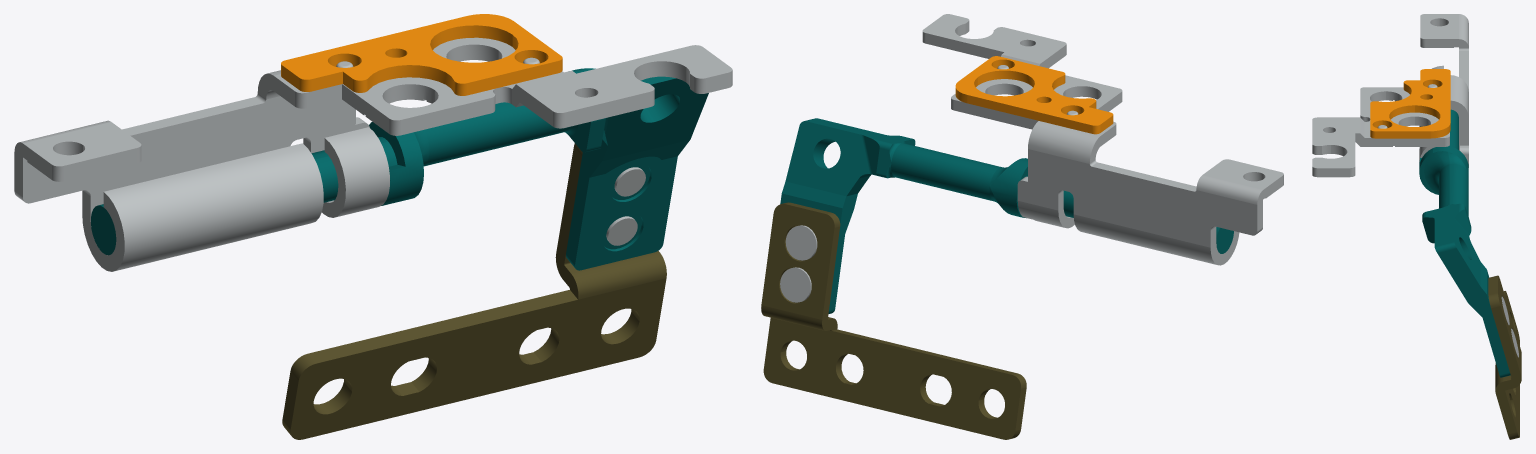
Rendered from framework-hinge-right.glb.
The picture shows the model from 3 angles, left to right: view 1: azimuth 30°, elevation 25°; view 2: azimuth 150°, elevation 25°; view 3: azimuth 270°, elevation 25°; orthographic projection. The views are drawn at different scales.
Parts seen in each view (by area): view 1: STEP part 1, GFW30_HINGE_R_BASE_BRK, GFW30_HINGE_R_AXIS_0703, GFW30_LCD_HINGE_SUP_BRK_R2, GFW30_BASE_HINGE_RIVET_R (×2); view 2: STEP part 1, GFW30_HINGE_R_BASE_BRK, GFW30_HINGE_R_AXIS_0703, GFW30_LCD_HINGE_SUP_BRK_R2, GFW30_BASE_HINGE_RIVET_R (×2); view 3: STEP part 1, GFW30_HINGE_R_AXIS_0703, GFW30_LCD_HINGE_SUP_BRK_R2, GFW30_HINGE_R_BASE_BRK.
Boxes of the visible parts, box(x1,y1,x2,y2) form: STEP part 1: box(14, 37, 732, 271); GFW30_HINGE_R_BASE_BRK: box(282, 143, 666, 439); GFW30_HINGE_R_AXIS_0703: box(91, 68, 708, 270); GFW30_LCD_HINGE_SUP_BRK_R2: box(281, 14, 562, 95); GFW30_BASE_HINGE_RIVET_R (×2): box(606, 167, 645, 245); STEP part 1: box(922, 14, 1283, 265); GFW30_HINGE_R_BASE_BRK: box(761, 202, 1026, 439); GFW30_HINGE_R_AXIS_0703: box(780, 118, 1233, 313); GFW30_LCD_HINGE_SUP_BRK_R2: box(955, 56, 1113, 134); GFW30_BASE_HINGE_RIVET_R (×2): box(780, 225, 817, 302); STEP part 1: box(1312, 14, 1468, 177); GFW30_HINGE_R_AXIS_0703: box(1419, 109, 1510, 377); GFW30_LCD_HINGE_SUP_BRK_R2: box(1370, 69, 1450, 138); GFW30_HINGE_R_BASE_BRK: box(1488, 275, 1521, 439).
Size of the model in its own units: 45.8 by 28.11 by 21.13.
